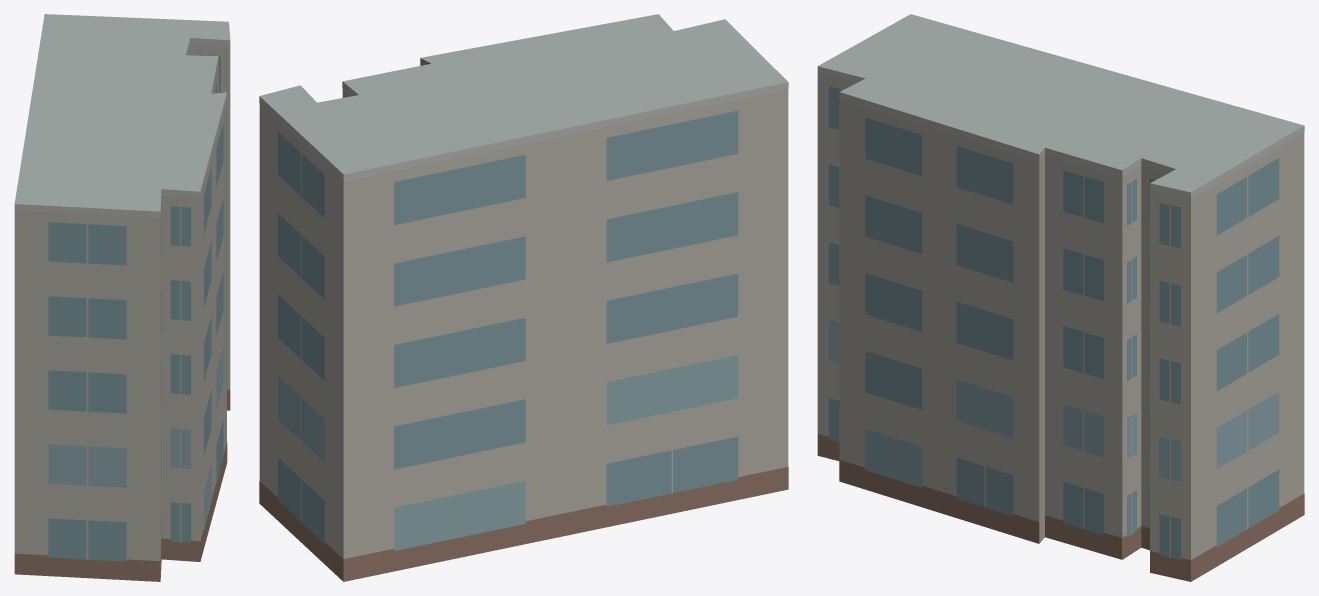
The model's file is survey-upis-32767492.glb.
3 renders of one model, left to right at view 1: azimuth 30°, elevation 25°; view 2: azimuth 150°, elevation 25°; view 3: azimuth 270°, elevation 25°, orthographic. The views are drawn at different scales.
Parts seen in each view (by area): view 1: survey-upis-32767492.tmp; view 2: survey-upis-32767492.tmp; view 3: survey-upis-32767492.tmp.
Boxes of the visible parts, box(x1,y1,x2,y2) form: survey-upis-32767492.tmp: box(14, 14, 230, 581); survey-upis-32767492.tmp: box(259, 14, 788, 581); survey-upis-32767492.tmp: box(817, 14, 1304, 581).
Size of the model in its own units: 13.86 by 14.1 by 15.98.
